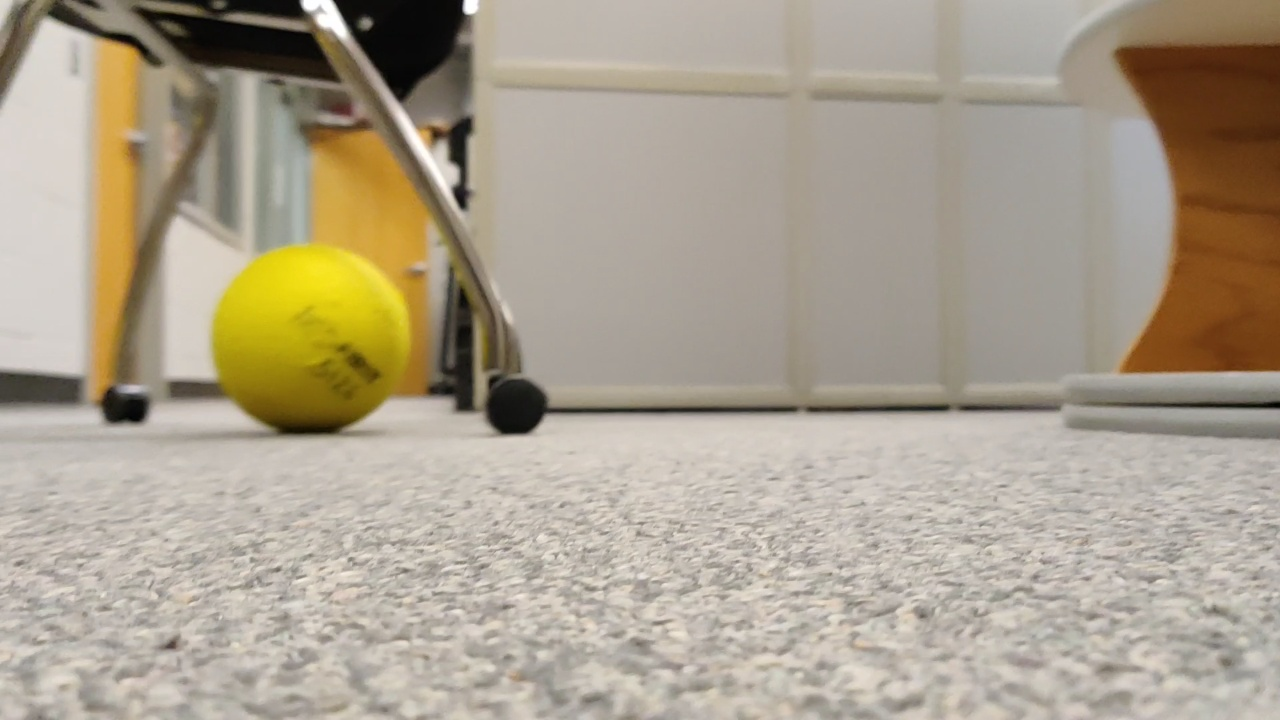Ball: (211, 240, 418, 431)
